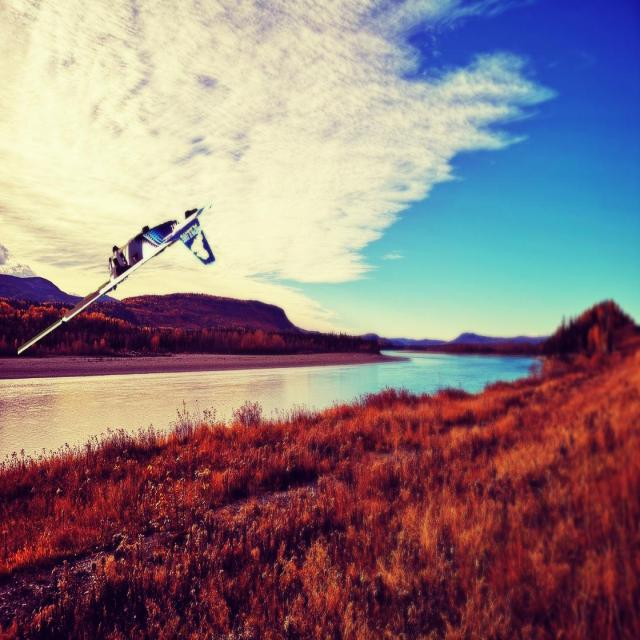airplane: (16, 202, 215, 356)
